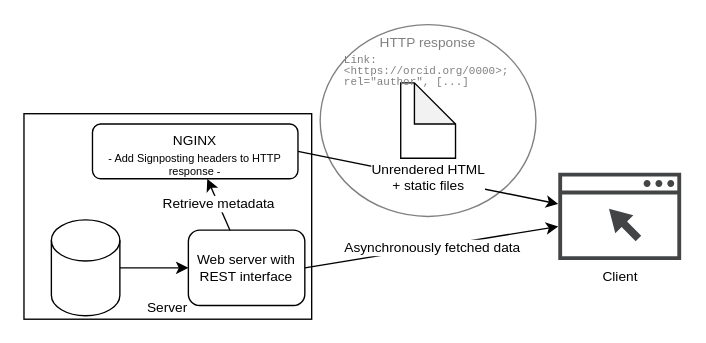
This 706x343 diagram has some shape labels left out. Each missing label, with the centre of its shape:
"Database" goes at pixel 85 267.
"HTML" goes at pixel 427 120.
